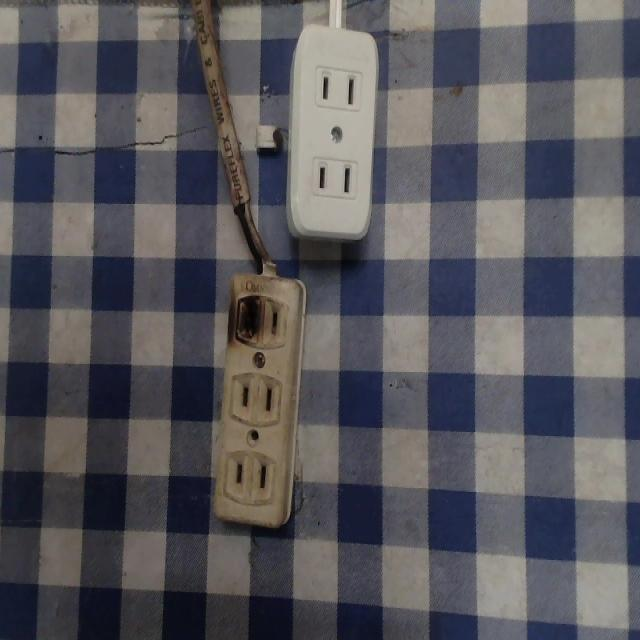-: (229, 285, 266, 355)
